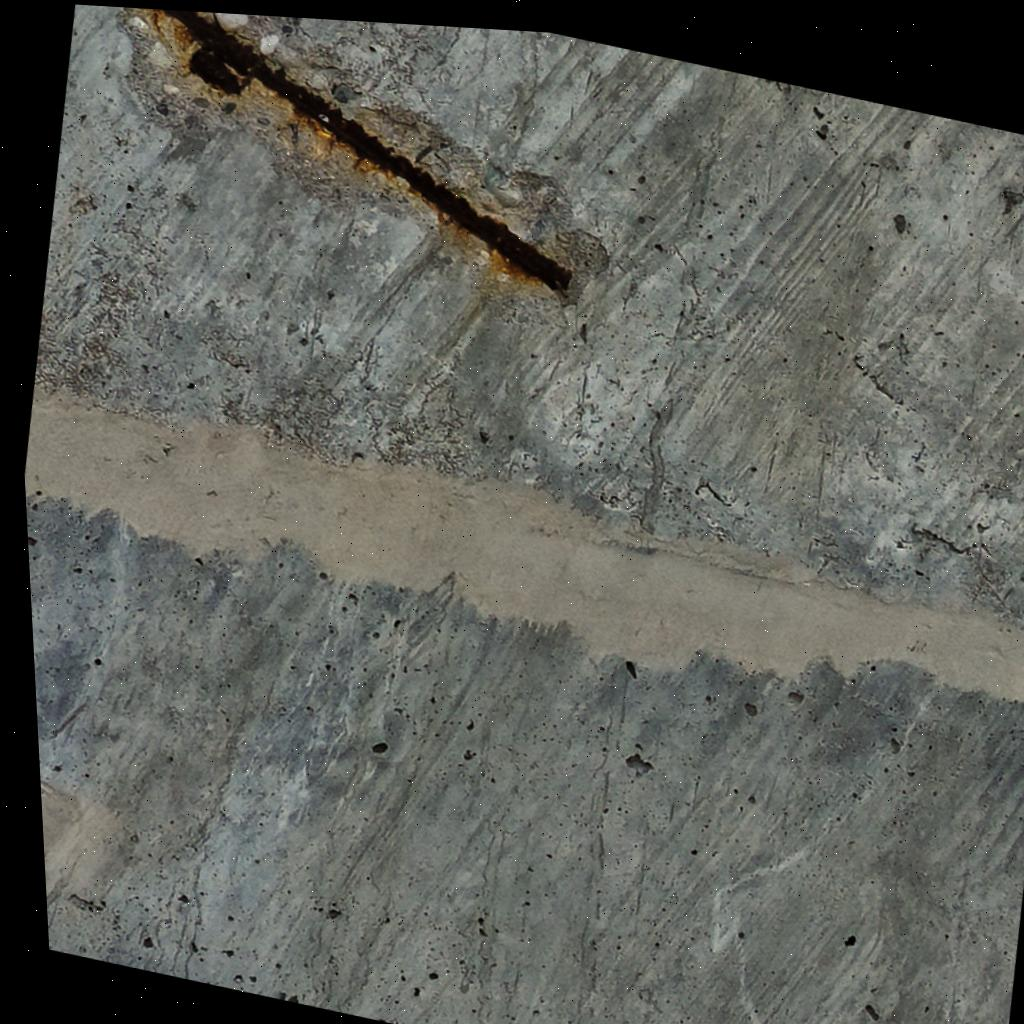exposed_rebar: (160, 10, 572, 291)
spalling: (123, 7, 608, 294)
